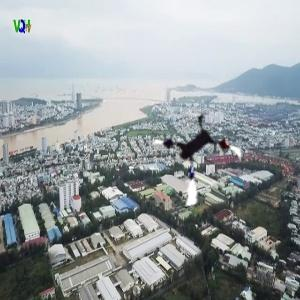drone: (146, 109, 247, 210)
